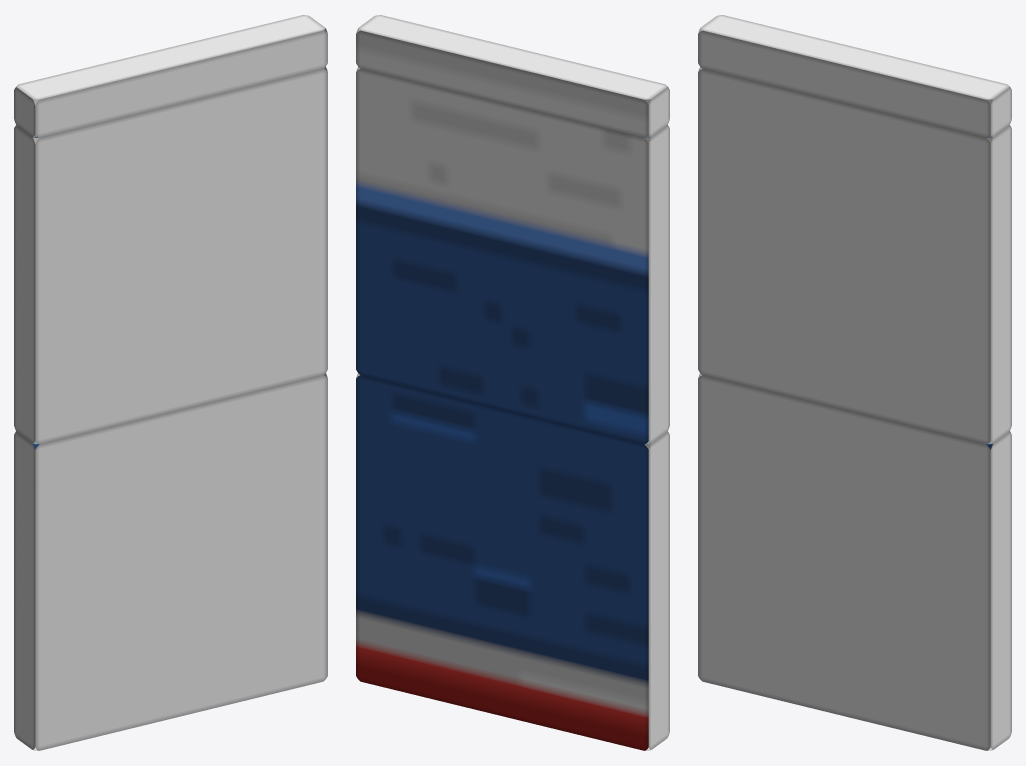
The model's file is df4d_right_board_c.obj.
The picture shows the model from 3 angles, left to right: view 1: azimuth 30°, elevation 25°; view 2: azimuth 150°, elevation 25°; view 3: azimuth 330°, elevation 25°; orthographic projection.
Parts seen in each view (by area): view 1: df4d_right_broad_c; view 2: df4d_right_broad_c; view 3: df4d_right_broad_c.
Part boxes in pixels (x1,y1,x2,y2): df4d_right_broad_c: [14, 15, 327, 750]; df4d_right_broad_c: [356, 15, 669, 750]; df4d_right_broad_c: [698, 15, 1011, 750].
Bounding box in the file's own units: 1 × 2.12 × 0.125.
